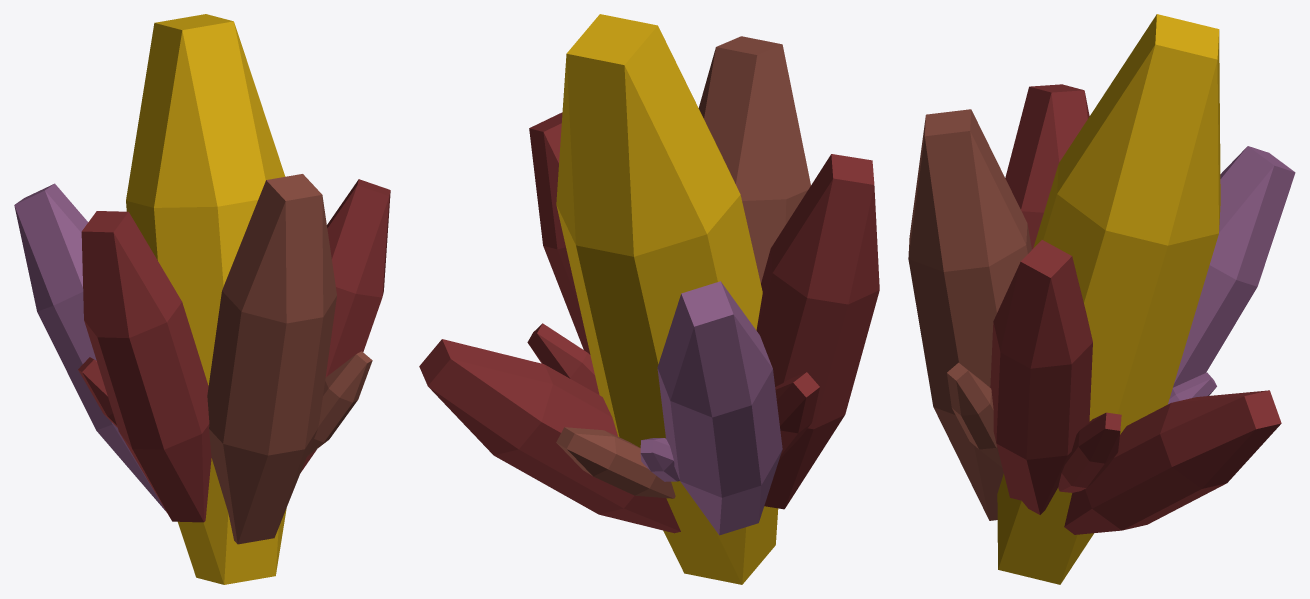
File: Crystal.fbx
The picture shows the model from 3 angles, left to right: view 1: azimuth 30°, elevation 25°; view 2: azimuth 150°, elevation 25°; view 3: azimuth 270°, elevation 25°; orthographic projection. The views are drawn at different scales.
Parts seen in each view (by area): view 1: Cube; view 2: Cube; view 3: Cube.
Part boxes in pixels (bbox=[...]): Cube: bbox=[14, 14, 390, 584]; Cube: bbox=[419, 14, 879, 584]; Cube: bbox=[908, 14, 1295, 584].
Bounding box in the file's own units: 87.02 × 139 × 87.43.
